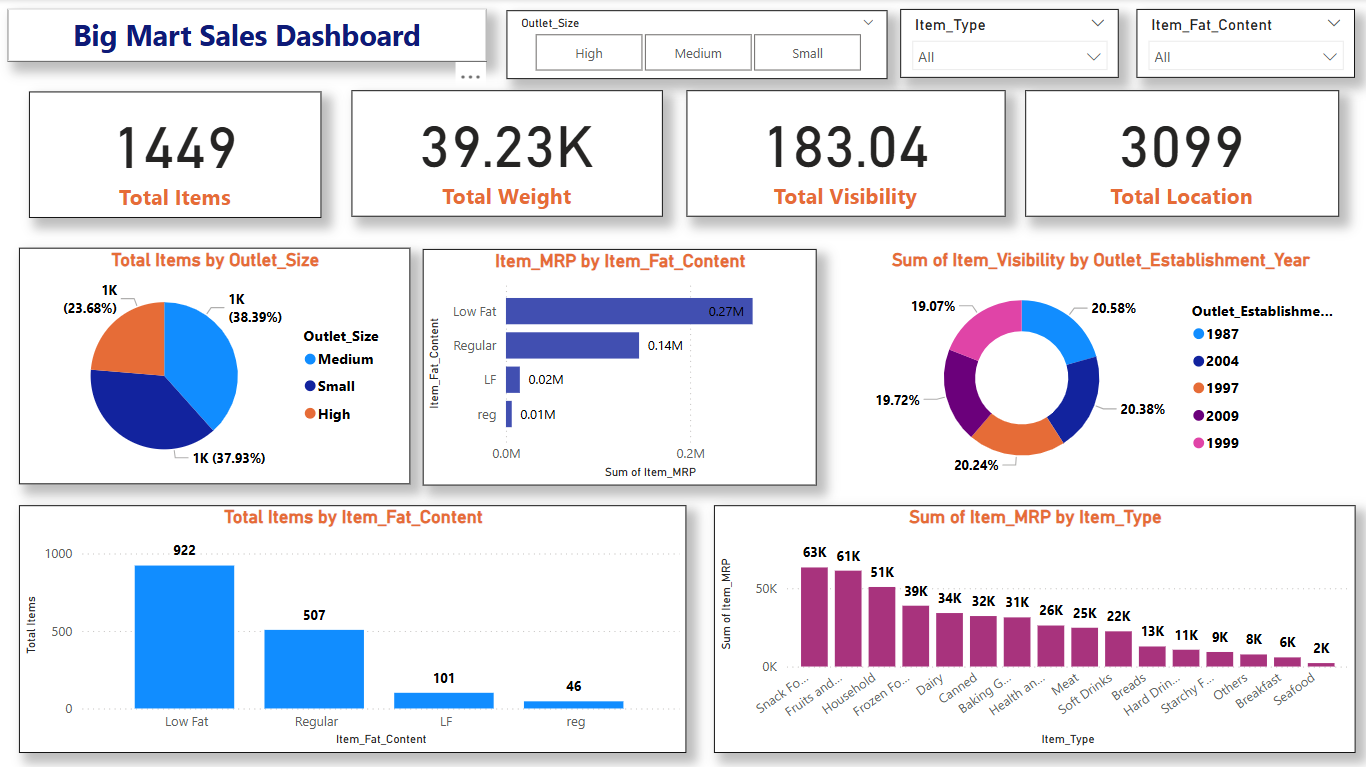

The dashboard page shown, as its layout file describes it:
{"tool":"powerbi","page":{"name":"Page 1","canvas":[1280,720],"ordinal":0},"visuals":[{"type":"textbox","box":[8.1,9.3,445.4,48.8],"z":0},{"type":"slicer","fields":{"Values":["Test.Outlet_Size"]},"box":[472.1,10.5,354.7,64],"z":1000},{"type":"slicer","fields":{"Values":["Test.Item_Type"]},"box":[838.4,9.3,203.5,64],"z":2000},{"type":"slicer","fields":{"Values":["Test.Item_Fat_Content"]},"box":[1058.1,9.3,203.5,64],"z":3000},{"type":"card","fields":{"Values":["Test.Total Items"]},"box":[27.9,86,272.1,117.4],"z":4000},{"type":"card","fields":{"Values":["Sum(Test.Item_Weight)"]},"box":[327.9,84.9,289.5,117.4],"z":5000},{"type":"card","fields":{"Values":["Sum(Test.Item_Visibility)"]},"box":[639.5,84.9,296.5,117.4],"z":6000},{"type":"card","fields":{"Values":["CountNonNull(Test.Outlet_Location_Type)"]},"box":[954.7,84.9,291.9,117.4],"z":7000},{"type":"pieChart","fields":{"Y":["Test.Total Items"],"Category":["Test.Outlet_Size"]},"box":[18.6,231.4,364,219.8],"z":8000},{"type":"barChart","title":"Item_MRP by Item_Fat_Content","fields":{"Y":["Sum(Test.Item_MRP)"],"Category":["Test.Item_Fat_Content"]},"box":[394.2,232.6,366.3,219.8],"z":9000},{"type":"donutChart","fields":{"Y":["Sum(Test.Item_Visibility)"],"Category":["Test.Outlet_Establishment_Year"]},"box":[788.4,232.6,473.3,220.9],"z":10000},{"type":"columnChart","fields":{"Category":["Test.Item_Fat_Content"],"Y":["Test.Total Items"]},"box":[18.6,470.9,620.9,230.2],"z":10001},{"type":"columnChart","fields":{"Category":["Test.Item_Type"],"Y":["Sum(Test.Item_MRP)"]},"box":[665.1,470.9,596.5,230.2],"z":10002}]}

Visuals, with their boxes in screenshot pixels (x1, y1, x2, y2), scaled from the page's 1280x720 canvas onto the 1366x767 screenshot:
textbox: bbox=(9, 10, 484, 62)
slicer - Test.Outlet_Size: bbox=(504, 11, 882, 79)
slicer - Test.Item_Type: bbox=(895, 10, 1112, 78)
slicer - Test.Item_Fat_Content: bbox=(1129, 10, 1346, 78)
card - Test.Total Items: bbox=(30, 92, 320, 217)
card - Sum(Test.Item_Weight): bbox=(350, 90, 659, 216)
card - Sum(Test.Item_Visibility): bbox=(682, 90, 999, 216)
card - CountNonNull(Test.Outlet_Location_Type): bbox=(1019, 90, 1330, 216)
pieChart - Test.Total Items x Test.Outlet_Size: bbox=(20, 247, 408, 481)
"Item_MRP by Item_Fat_Content" barChart: bbox=(421, 248, 812, 482)
donutChart - Sum(Test.Item_Visibility) x Test.Outlet_Establishment_Year: bbox=(841, 248, 1346, 483)
columnChart - Test.Item_Fat_Content x Test.Total Items: bbox=(20, 502, 682, 747)
columnChart - Test.Item_Type x Sum(Test.Item_MRP): bbox=(710, 502, 1346, 747)
